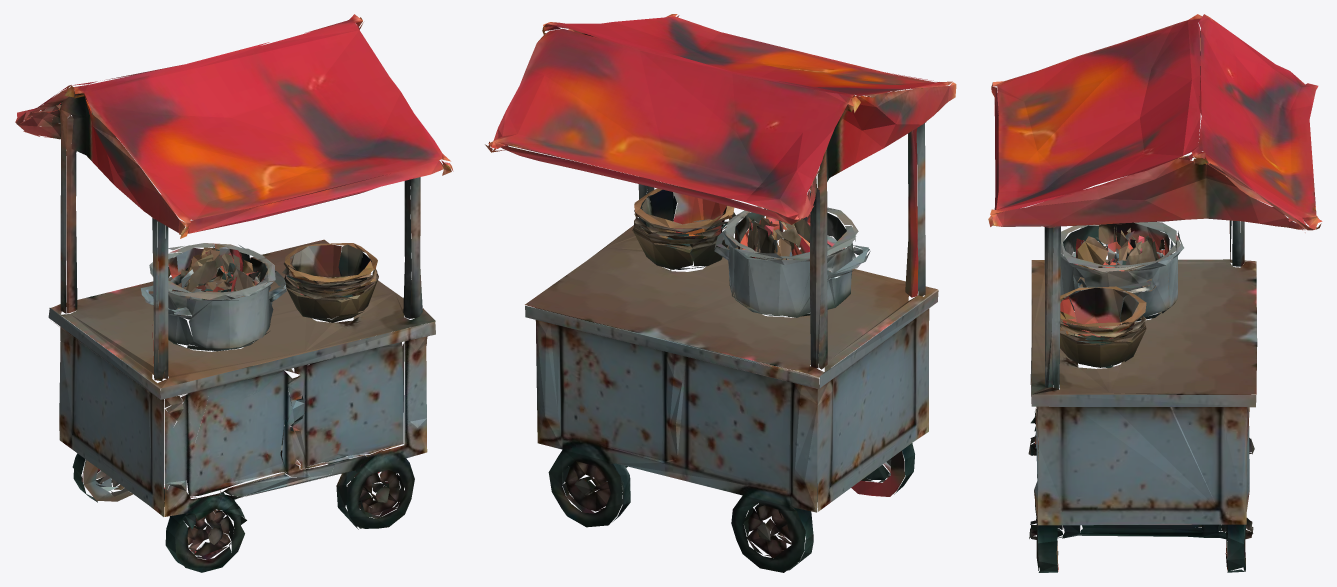
Rendered from noodle-cart.glb.
The picture shows the model from 3 angles, left to right: view 1: azimuth 30°, elevation 25°; view 2: azimuth 150°, elevation 25°; view 3: azimuth 270°, elevation 25°; orthographic projection. The views are drawn at different scales.
Parts seen in each view (by area): view 1: prop; view 2: prop; view 3: prop.
Part boxes in pixels (bbox=[...]): prop: bbox=[15, 14, 453, 572]; prop: bbox=[485, 14, 956, 572]; prop: bbox=[988, 14, 1322, 572].
Size of the model in its own units: 0.9199 by 1.32 by 0.8992.
1 material, 1 textured.
